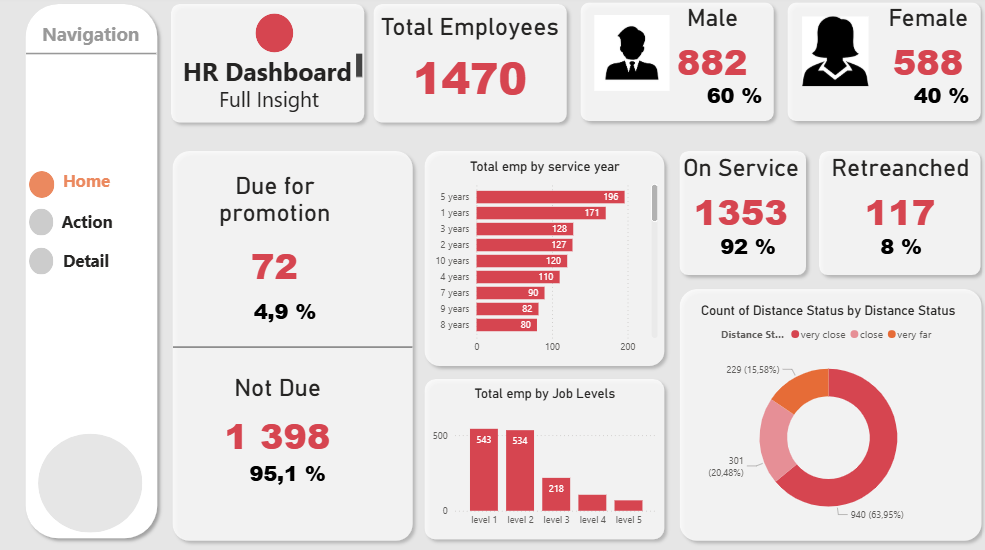

What the dashboard file says about the page in this screenshot:
{"tool":"powerbi","page":{"name":"Home","canvas":[1280,720],"ordinal":0},"visuals":[{"type":"shape","box":[216,4,266,170],"z":0},{"type":"shape","box":[28.2,3.3,187.2,704],"z":1000},{"type":"shape","box":[476,4,266,170],"z":2000},{"type":"shape","box":[742,2,266,170],"z":3000},{"type":"shape","box":[1008,2,266,170],"z":4000},{"type":"shape","box":[217,192.2,326.3,518.5],"z":5000},{"type":"shape","box":[542,192,326,294],"z":6000},{"type":"shape","box":[542,486,326,224],"z":7000},{"type":"shape","box":[868,192.2,180.6,177.2],"z":8000},{"type":"shape","box":[1048.6,192.2,225.3,177.2],"z":9000},{"type":"shape","box":[868,369.4,405.8,341.2],"z":10000},{"type":"textbox","box":[281.5,111.1,156.8,51.9],"z":11000},{"type":"textbox","box":[235.7,71.4,240,45.7],"z":12000},{"type":"shape","box":[332.9,24.3,48.6,50],"z":13000},{"type":"cardVisual","title":"Total Employees","fields":{"Data":["_Measure.Total emp"]},"box":[458.3,22.2,300,130.6],"z":14000},{"type":"cardVisual","title":"Male","fields":{"Data":["_Measure.Male"]},"box":[827,12.2,187.8,112.2],"z":15000},{"type":"cardVisual","title":"Male","fields":{"Data":["_Measure.% Male"]},"box":[881.2,94.4,132.5,67.9],"z":16000},{"type":"image","box":[741.9,27,150,97.3],"z":17000},{"type":"cardVisual","title":"Female","fields":{"Data":["_Measure.Female"]},"box":[1112.2,12.2,167.6,112.2],"z":18000},{"type":"cardVisual","title":"Male","fields":{"Data":["_Measure.% Female"]},"box":[1147.9,94.4,132.5,67.9],"z":19000},{"type":"image","box":[1032,28.2,91.1,89.4],"z":20000},{"type":"cardVisual","title":" Due for promotion","fields":{"Data":["_Measure.Due For Promotion"]},"box":[256.8,226.9,203.7,169],"z":21000},{"type":"cardVisual","title":"Not Due","fields":{"Data":["_Measure.Not Due"]},"box":[259.1,486.4,203,119.7],"z":22000},{"type":"cardVisual","title":"Male","fields":{"Data":["_Measure.% Due for Promotion"]},"box":[300,373.2,141.5,65.9],"z":23000},{"type":"cardVisual","title":"Male","fields":{"Data":["_Measure.% Not Due"]},"box":[292.7,580.5,163.4,68.3],"z":24000},{"type":"shape","box":[38.1,13.3,167.3,125.9],"z":25000},{"type":"shape","box":[226.8,395.1,307.3,117.1],"z":26000},{"type":"textbox","box":[53,28.2,157.4,49.7],"z":27000},{"type":"barChart","fields":{"Y":["_Measure.Total emp"],"Category":["HR Analytics Data.service year"]},"box":[554.9,212,299.8,258.4],"z":28000},{"type":"shape","box":[43.1,275,31.5,34.8],"z":29000},{"type":"columnChart","fields":{"Category":["HR Analytics Data.Job Levels"],"Y":["_Measure.Total emp"]},"box":[554.9,501.9,299.8,190.5],"z":30000},{"type":"shape","box":[43.1,324.7,31.5,34.8],"z":31000},{"type":"cardVisual","title":"On Service","fields":{"Data":["_Measure.On Service"]},"box":[864.7,203.7,183.9,112.6],"z":32000},{"type":"shape","box":[42.4,227.2,32.7,34.7],"z":33000},{"type":"cardVisual","title":"Retreanched","fields":{"Data":["_Measure.Will Be Retrenched"]},"box":[1048.6,203.7,226.9,112.6],"z":34000},{"type":"textbox","box":[81.2,220.3,120.9,43.1],"z":35000},{"type":"cardVisual","title":"Male","fields":{"Data":["_Measure.% On Service"]},"box":[899.5,288.2,132.5,67.9],"z":36000},{"type":"textbox","box":[79.5,271.7,120.9,43.1],"z":37000},{"type":"cardVisual","title":"Male","fields":{"Data":["_Measure.% Retrenched"]},"box":[1096.6,288.2,132.5,67.9],"z":38000},{"type":"textbox","box":[81.2,321.4,120.9,43.1],"z":39000},{"type":"donutChart","fields":{"Category":["HR Analytics Data.Distance Status"],"Y":["CountNonNull(HR Analytics Data.Distance Status)"]},"box":[881.2,395.9,372.7,296.5],"z":40000},{"type":"shape","box":[53,564.9,134.2,127.5],"z":41000}]}

Visuals, with their boxes in screenshot pixels (x1, y1, x2, y2), scaled from the page's 1280x720 canvas onto the 985x550 screenshot:
shape: <box>166,3,371,133</box>
shape: <box>22,3,166,540</box>
shape: <box>366,3,571,133</box>
shape: <box>571,2,776,131</box>
shape: <box>776,2,980,131</box>
shape: <box>167,147,418,543</box>
shape: <box>417,147,668,371</box>
shape: <box>417,371,668,542</box>
shape: <box>668,147,807,282</box>
shape: <box>807,147,980,282</box>
shape: <box>668,282,980,543</box>
textbox: <box>217,85,337,125</box>
textbox: <box>181,55,366,89</box>
shape: <box>256,19,294,57</box>
"Total Employees" cardVisual: <box>353,17,584,117</box>
"Male" cardVisual: <box>636,9,781,95</box>
"Male" cardVisual: <box>678,72,780,124</box>
image: <box>571,21,686,95</box>
"Female" cardVisual: <box>856,9,984,95</box>
"Male" cardVisual: <box>883,72,984,124</box>
image: <box>794,22,864,90</box>
" Due for promotion" cardVisual: <box>198,173,354,302</box>
"Not Due" cardVisual: <box>199,372,356,463</box>
"Male" cardVisual: <box>231,285,340,335</box>
"Male" cardVisual: <box>225,443,351,496</box>
shape: <box>29,10,158,106</box>
shape: <box>175,302,411,391</box>
textbox: <box>41,22,162,60</box>
barChart - _Measure.Total emp x HR Analytics Data.service year: <box>427,162,658,359</box>
shape: <box>33,210,57,237</box>
columnChart - HR Analytics Data.Job Levels x _Measure.Total emp: <box>427,383,658,529</box>
shape: <box>33,248,57,275</box>
"On Service" cardVisual: <box>665,156,807,242</box>
shape: <box>33,174,58,200</box>
"Retreanched" cardVisual: <box>807,156,982,242</box>
textbox: <box>62,168,156,201</box>
"Male" cardVisual: <box>692,220,794,272</box>
textbox: <box>61,208,154,240</box>
"Male" cardVisual: <box>844,220,946,272</box>
textbox: <box>62,246,156,278</box>
donutChart - HR Analytics Data.Distance Status x CountNonNull(HR Analytics Data.Distance Status): <box>678,302,965,529</box>
shape: <box>41,432,144,529</box>
